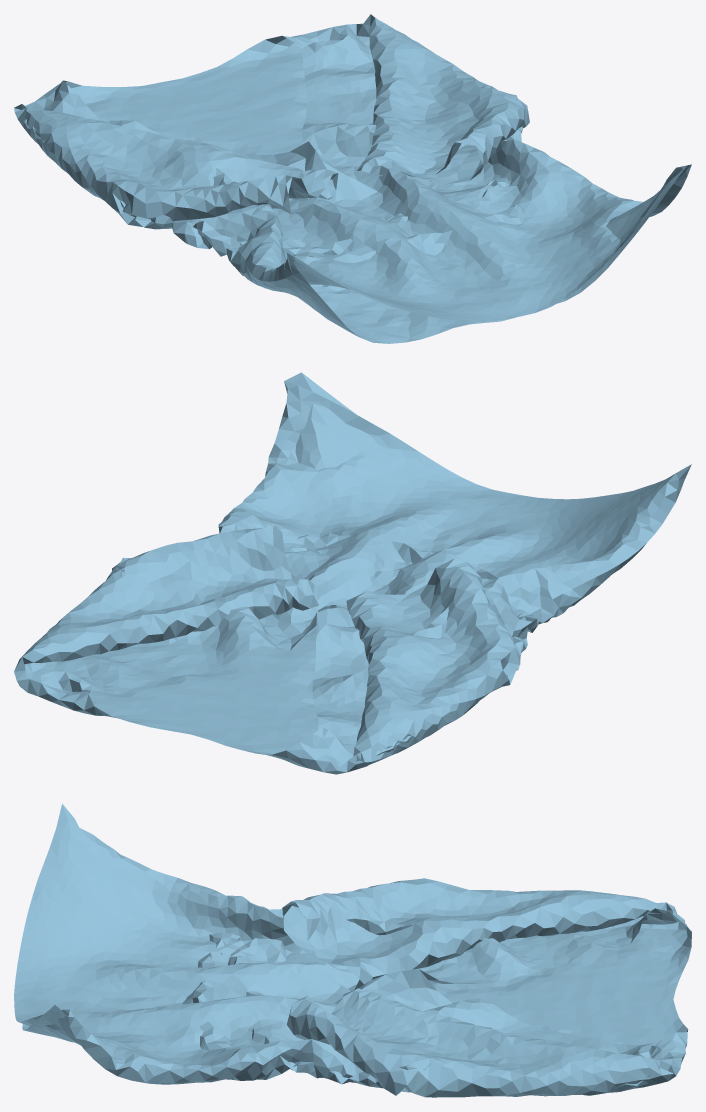
Rendered from frame_02.glb.
3 renders of one model, top to bottom at view 1: azimuth 30°, elevation 25°; view 2: azimuth 150°, elevation 25°; view 3: azimuth 270°, elevation 25°, orthographic.
Parts seen in each view (by area): view 1: frame_02.obj; view 2: frame_02.obj; view 3: frame_02.obj.
Part boxes in pixels (bbox=[...]): frame_02.obj: bbox=[14, 14, 691, 343]; frame_02.obj: bbox=[14, 372, 691, 774]; frame_02.obj: bbox=[14, 803, 691, 1097].
Bounding box in the file's own units: 1.21 × 0.2946 × 1.72.
